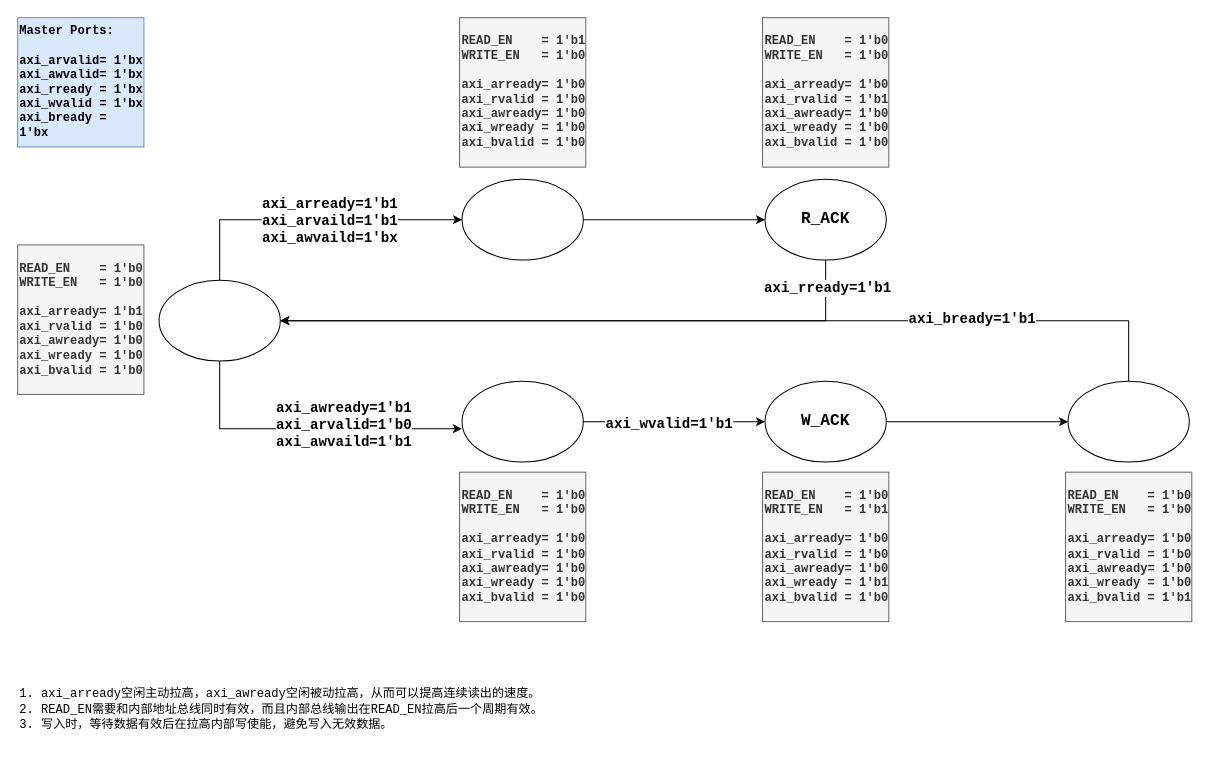
The diagram is 1210 pixels wide and 773 high, and some of its shapes have lost their labels. Each missing label, with the centre of its shape:
AR_ACK: (x=522, y=219)
AW_ACK: (x=522, y=421)
IDLE: (x=219, y=320)
W_RESP: (x=1128, y=421)
